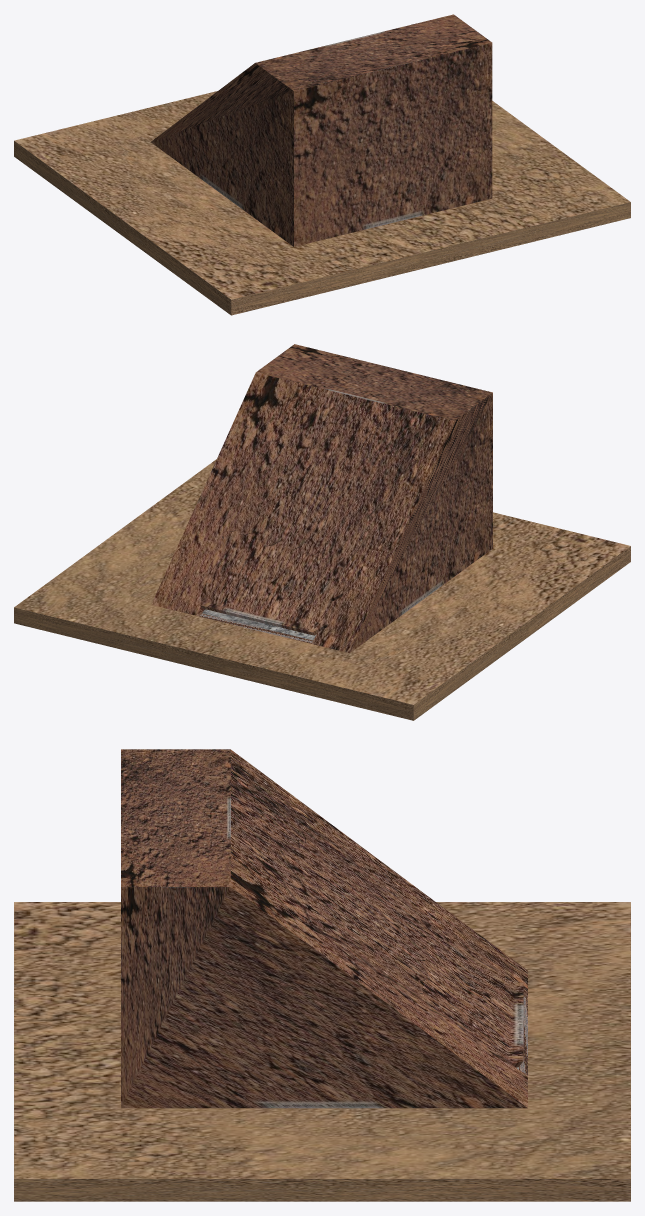
File: 覆盖层滑坡.gltf
3 views of the same model, one above another, from view 1: azimuth 30°, elevation 25°; view 2: azimuth 150°, elevation 25°; view 3: azimuth 270°, elevation 25° (orthographic). The views are drawn at different scales.
Parts seen in each view (by area): view 1: node__-76858, node_Cube (1)_-83854; view 2: node_Cube (1)_-83854, node__-76858, node__-76860, node__-76862, node__-76866; view 3: node_Cube (1)_-83854, node__-76858, node__-76860, node__-76862.
Boxes of the visible parts, x1,y1,x2,y2 form: node__-76858: (151,14,492,246); node_Cube (1)_-83854: (14,91,630,315); node_Cube (1)_-83854: (14,459,630,720); node__-76858: (151,344,492,653); node__-76860: (229,428,389,567); node__-76862: (200,530,345,635); node__-76866: (202,609,316,640); node_Cube (1)_-83854: (14,902,630,1201); node__-76858: (121,749,527,1108); node__-76860: (280,831,431,1000); node__-76862: (419,920,523,1067).
Size of the model in its own units: 2.05 by 0.843 by 1.93.
